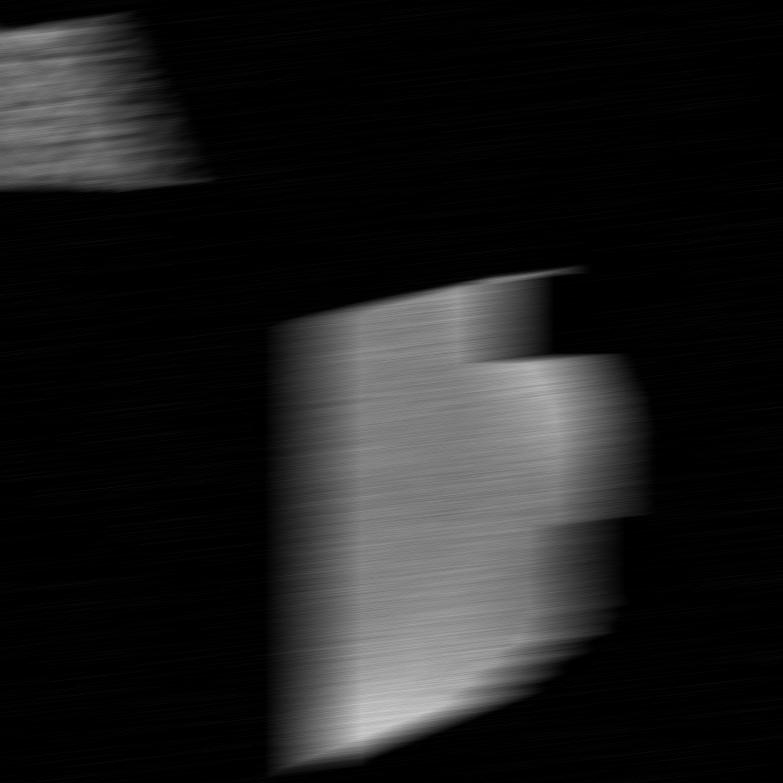Airbag: (301, 272, 617, 767), (0, 1, 325, 186)
